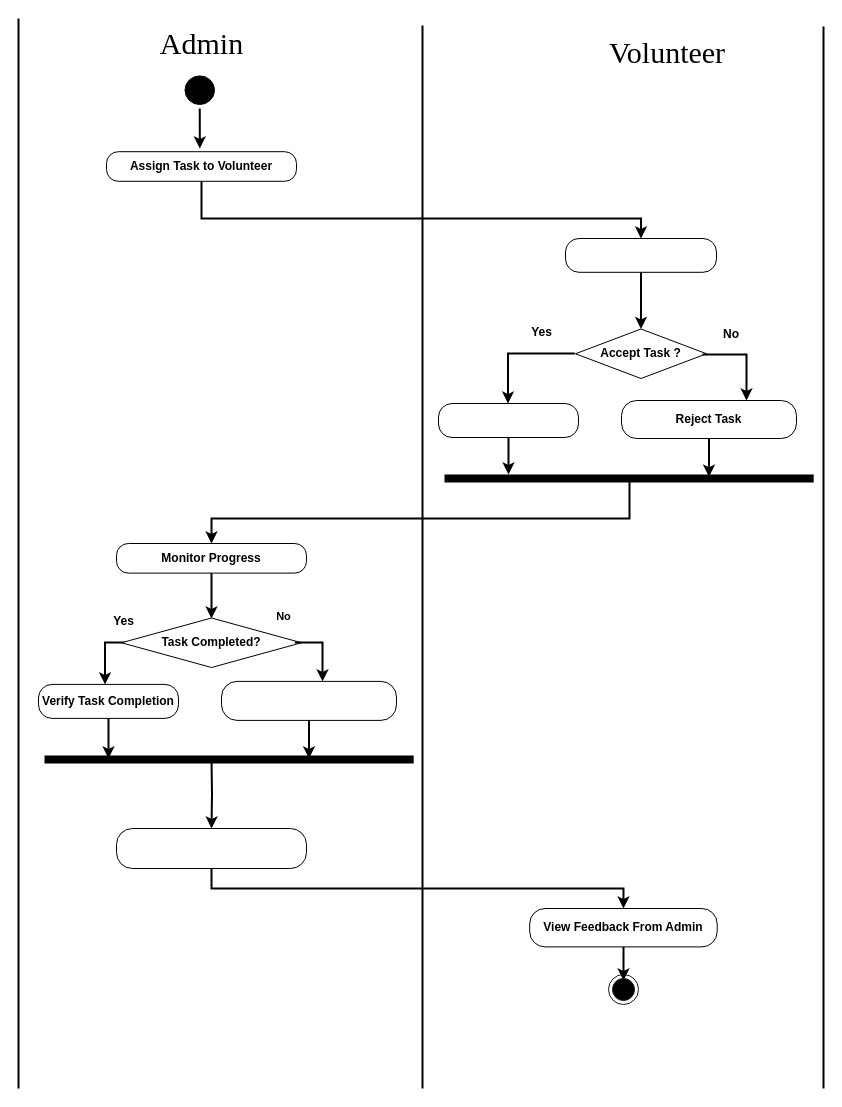
Some shapes in this 842 by 1107 pixel diagram are drawn without their labels. Here are the shapes that lost their labels. From the top down, the centre of each, then its label:
At [640,255]: "View Assigned Task".
At [508,420]: "Update Task Status".
At [308,700]: "Continue Monitoring".
At [211,848]: "Provide Performance Feedback".
